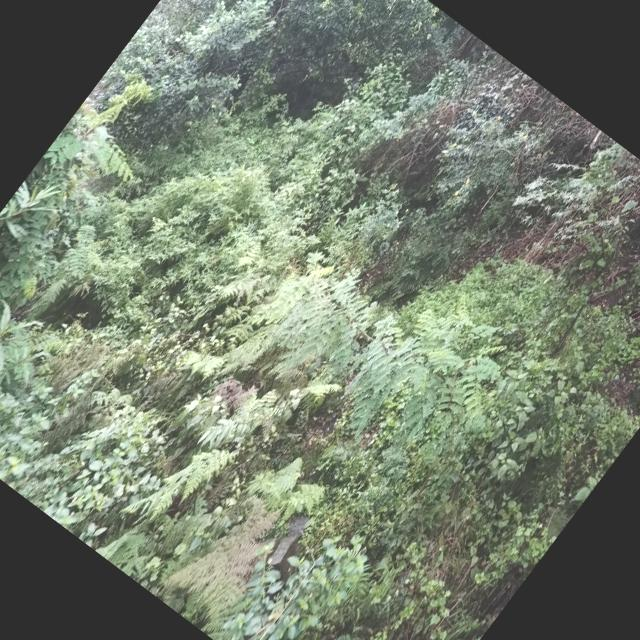Mysore-Thorn-Weed: (236, 238, 499, 484)
